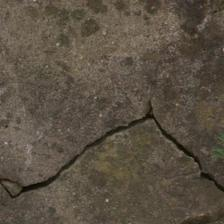Crack: (24, 64, 123, 160), (92, 33, 173, 113)
